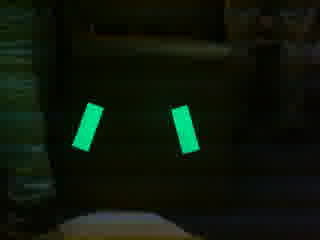target: (70, 100, 201, 155)
